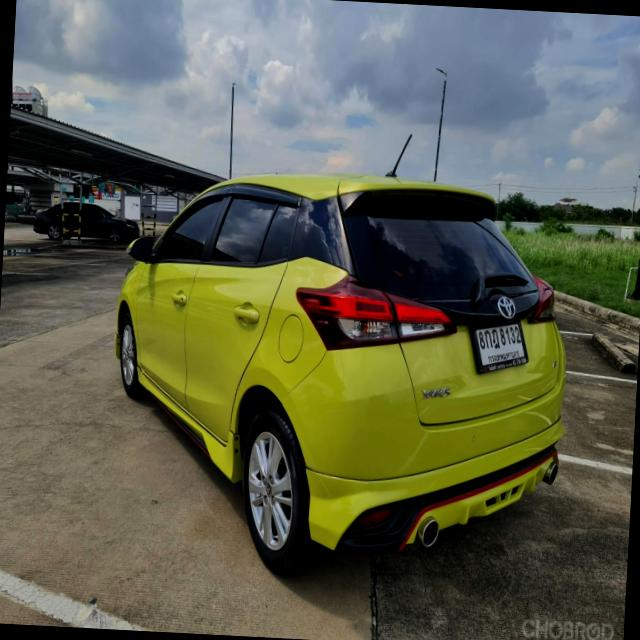license_plate: (466, 311, 540, 386)
